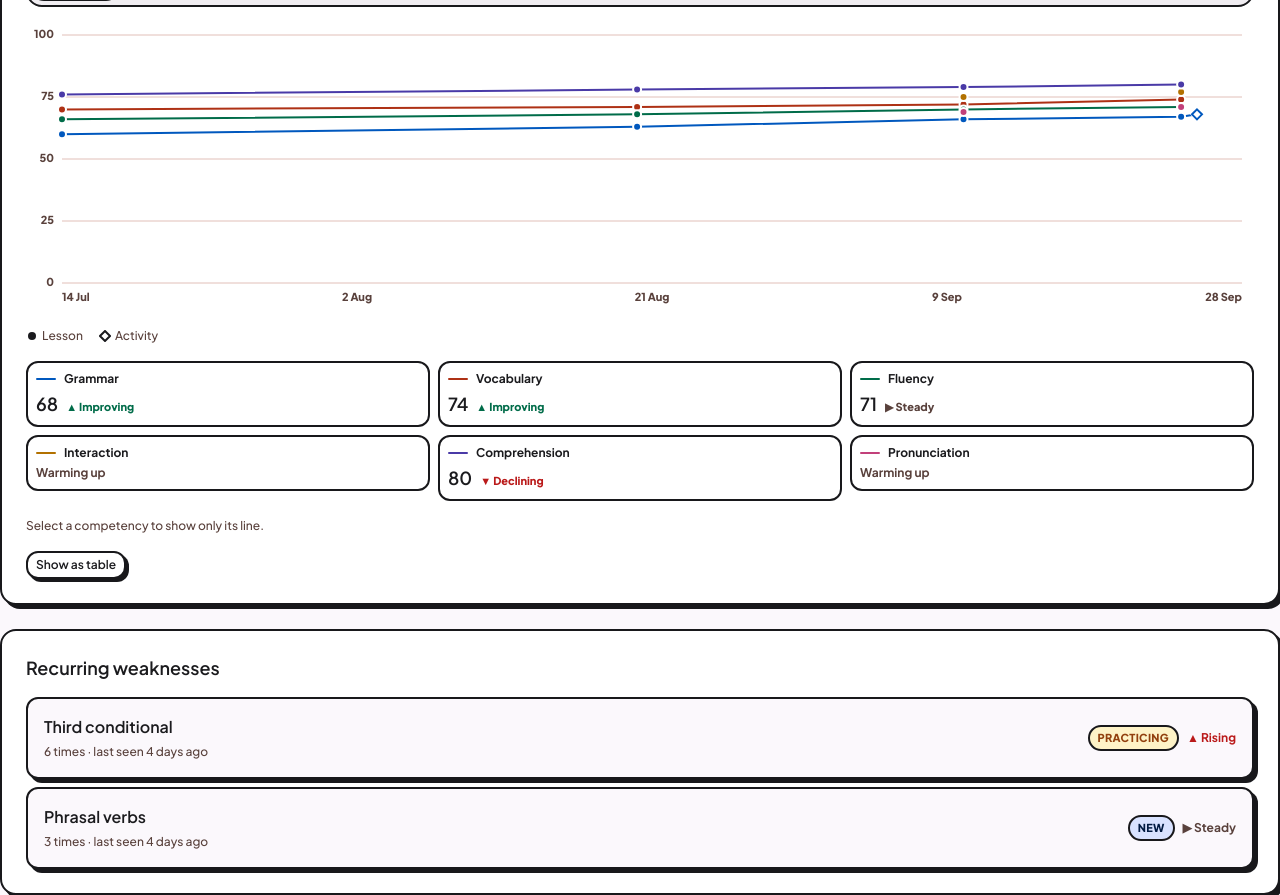
ProgressScreen › renders_recurring_weaknesses_and_opens_the_detail
This screenshot has width=1280, height=895.
(page scrolled)
Click the button "last seen" at (108, 726), box [26,697,1254,779]
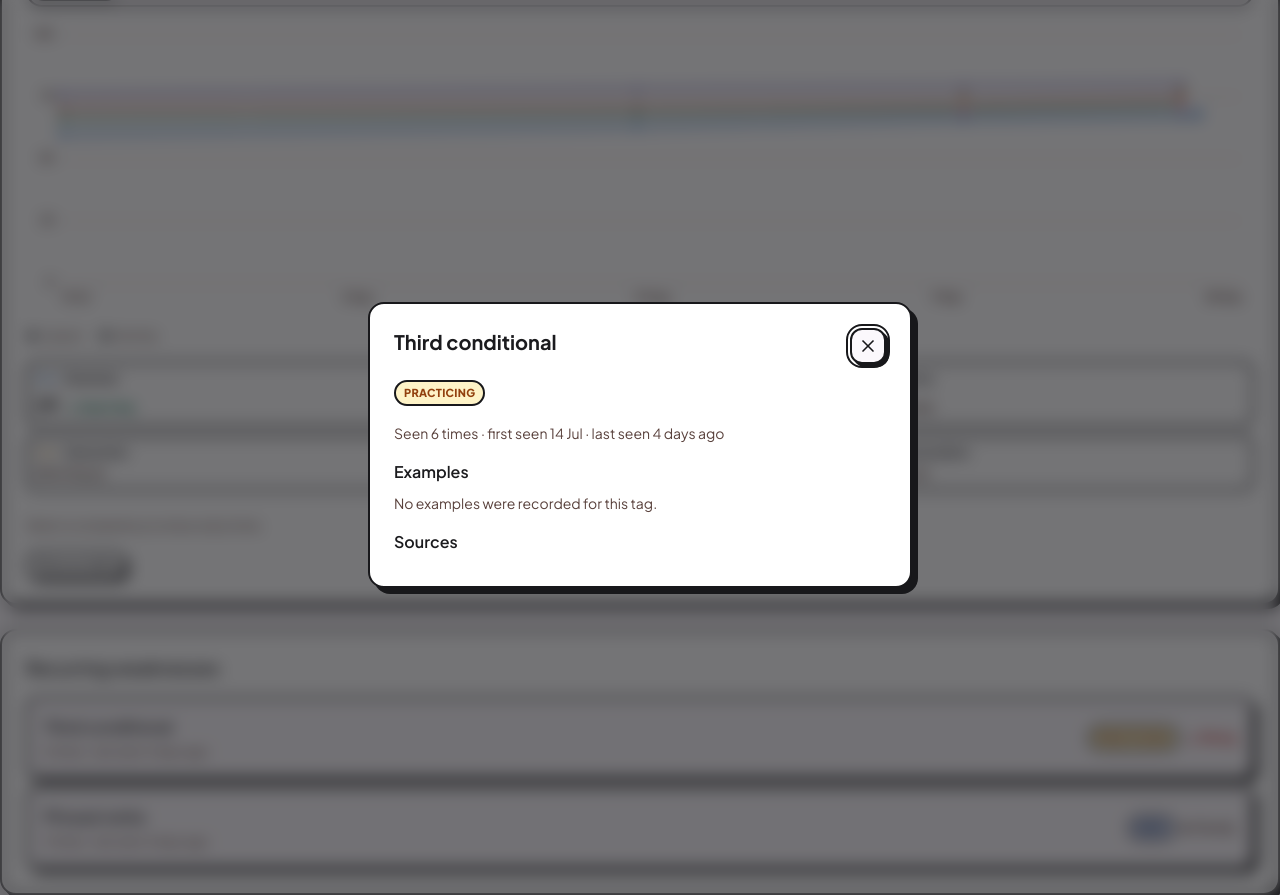
Now the dialog is shown, box [368,302,912,588]
Click the button named "close" at (868, 346), box [850,328,886,364]
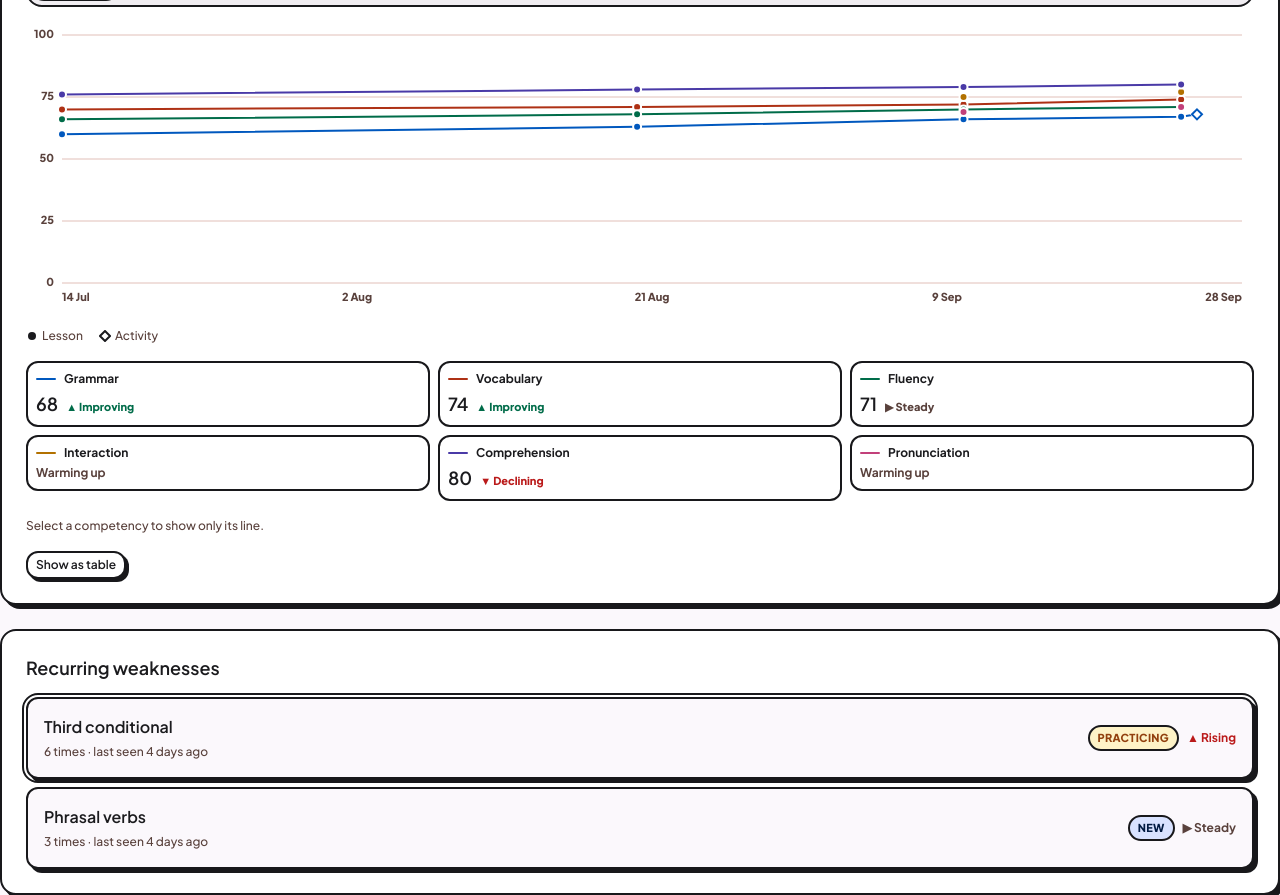
Now the dialog is gone
